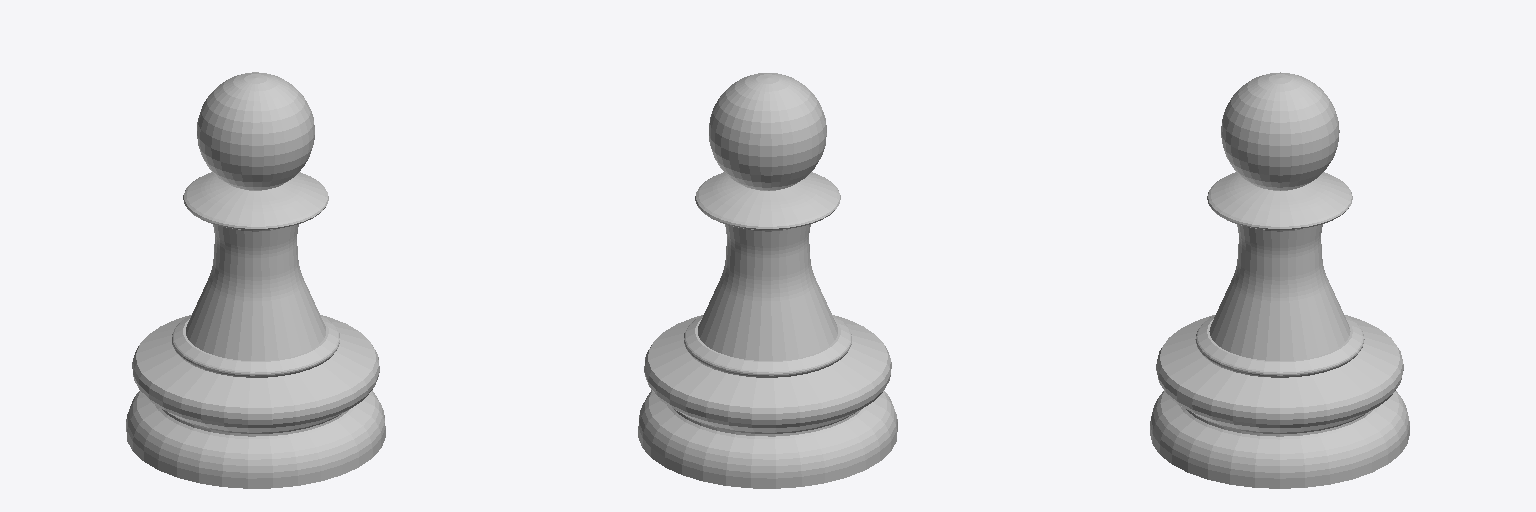
Rendered from pawn1.obj.
The picture shows the model from 3 angles: view 1: azimuth 30°, elevation 25°; view 2: azimuth 150°, elevation 25°; view 3: azimuth 270°, elevation 25°; orthographic projection.
Parts seen in each view (by area): view 1: Dark_Pawn_1; view 2: Dark_Pawn_1; view 3: Dark_Pawn_1.
Boxes of the visible parts, box(x1,y1,x2,y2) form: Dark_Pawn_1: box(126, 72, 385, 488); Dark_Pawn_1: box(638, 73, 897, 488); Dark_Pawn_1: box(1150, 72, 1409, 488).
Bounding box in the file's own units: 1.15 × 1.73 × 1.15.